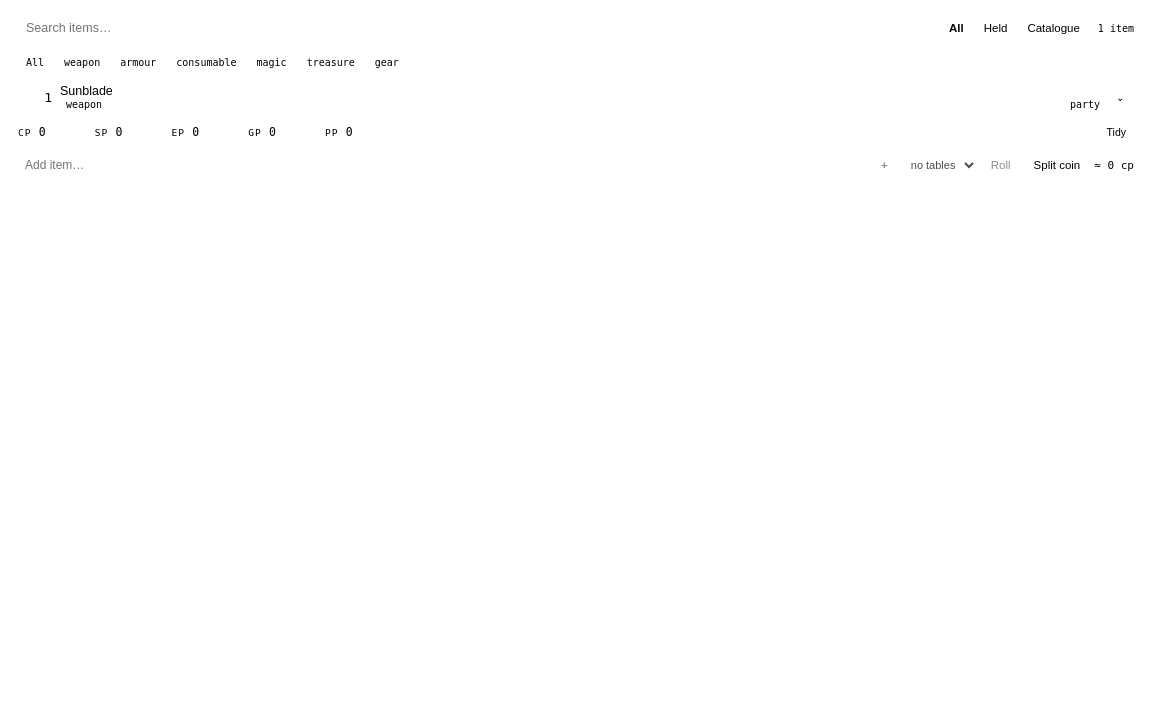
Scenario: Items weapon and armour detail › totals every damage component into one headline
Click the text "Sunblade". click: [86, 91]
box: x1=60 y1=84 x2=113 y2=98
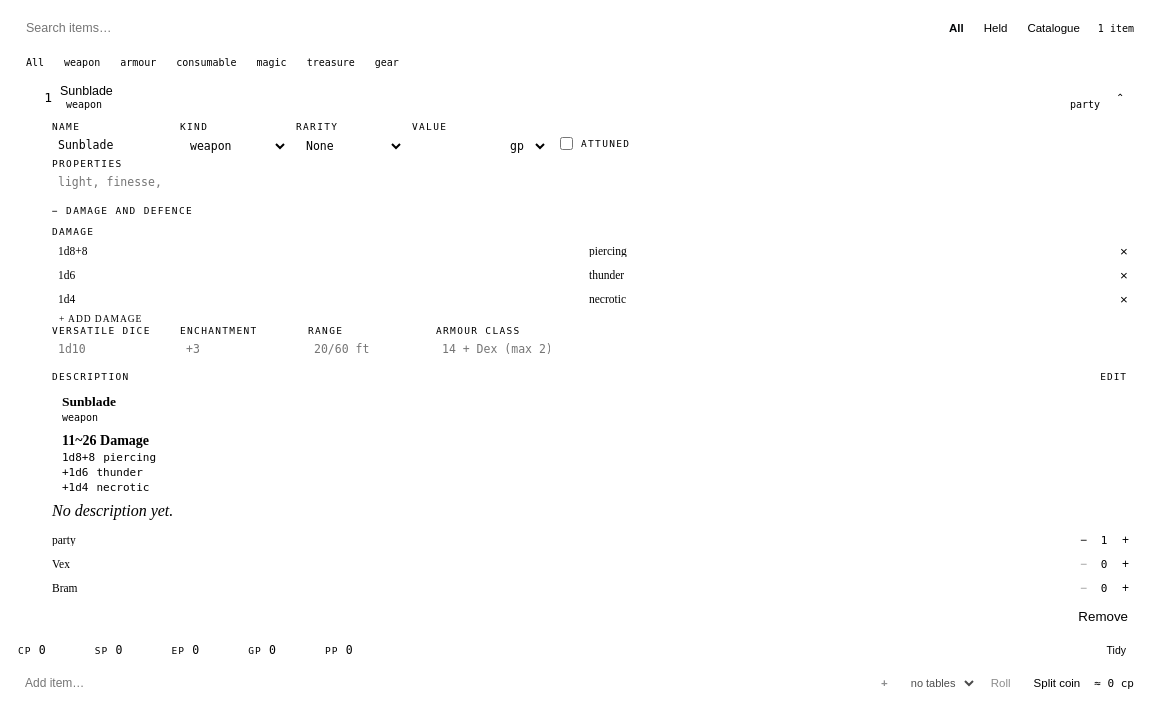
Expected: the text "11~26 Damage" is shown, x1=62 y1=433 x2=149 y2=448
Expected: the button "1d8+8" is shown, x1=62 y1=451 x2=95 y2=464
Expected: the text "+1d6" is shown, x1=62 y1=466 x2=88 y2=479
